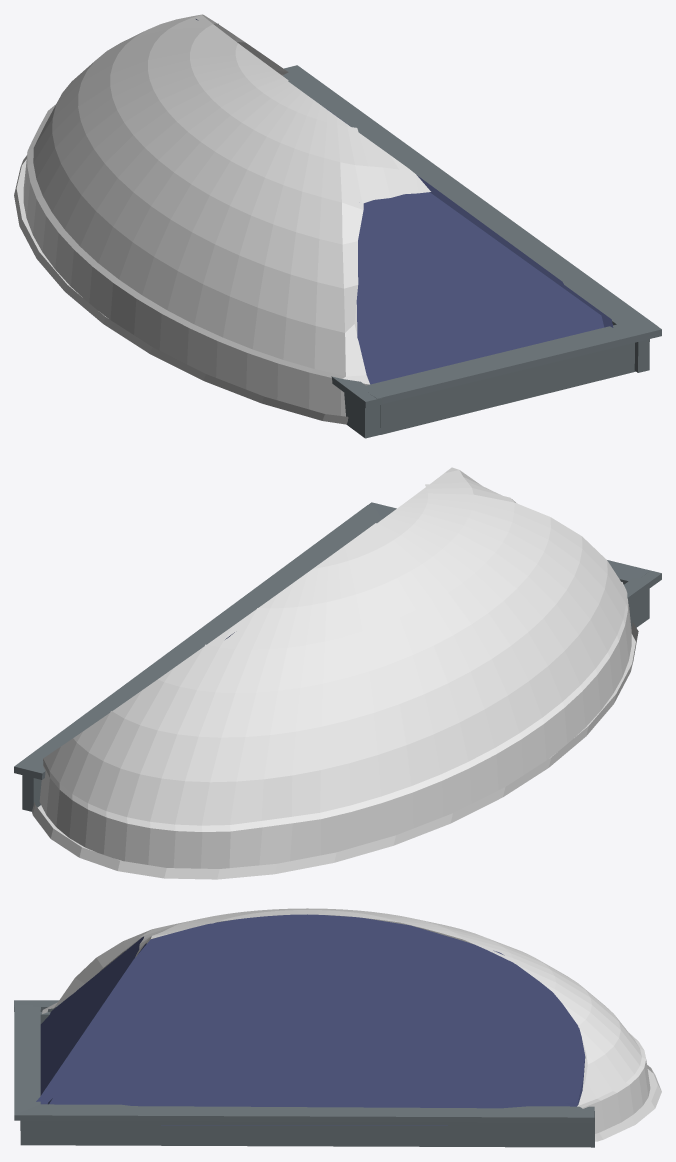
File: science museum2.fbx
The picture shows the model from 3 angles, top to bottom: view 1: azimuth 30°, elevation 25°; view 2: azimuth 150°, elevation 25°; view 3: azimuth 270°, elevation 25°; orthographic projection. The views are drawn at different scales.
Visible parts, largest first — view 1: Cylinder.001, Plane.001, Cube.001; view 2: Cylinder.001, Cube.001; view 3: Plane.001, Cube.001, Cylinder.001.
Part boxes in pixels (left/top/right/bottom): Cylinder.001: left=14, top=14, right=430, bottom=424; Plane.001: left=196, top=19, right=613, bottom=384; Cube.001: left=283, top=65, right=661, bottom=438; Cylinder.001: left=32, top=467, right=638, bottom=879; Cube.001: left=14, top=502, right=661, bottom=811; Plane.001: left=36, top=914, right=585, bottom=1125; Cube.001: left=14, top=1000, right=594, bottom=1147; Cylinder.001: left=42, top=908, right=661, bottom=1141.
Bounding box in the file's own units: 543 × 287 × 1034.
